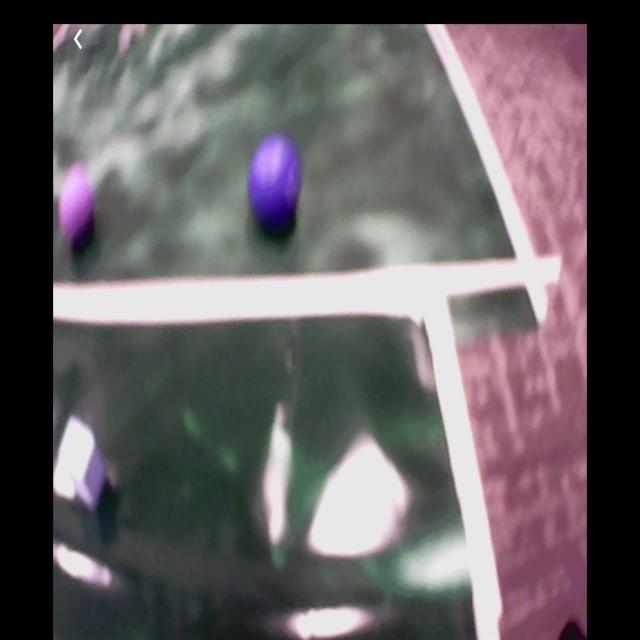ball: (249, 136, 300, 234), (60, 170, 98, 252)
